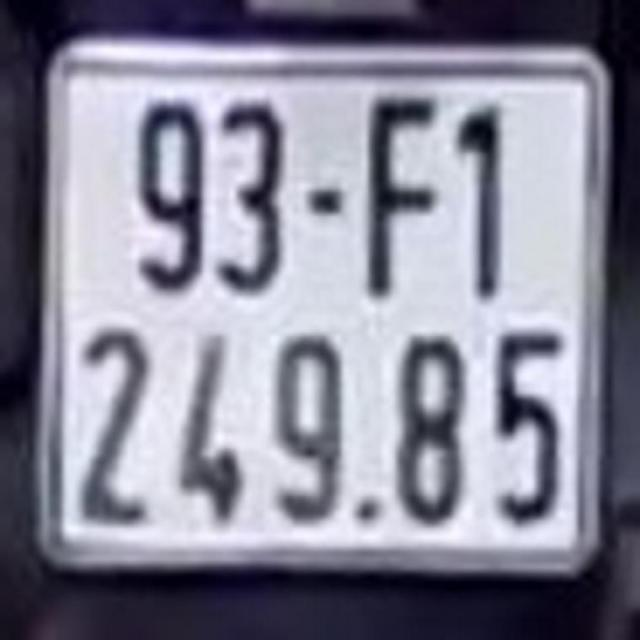1: (452, 90, 515, 304)
2: (79, 316, 148, 526)
3: (215, 92, 283, 298)
4: (172, 320, 247, 525)
5: (489, 316, 570, 527)
8: (397, 317, 467, 530)
9: (270, 312, 348, 525), (130, 87, 204, 300)
F: (366, 88, 442, 297)
